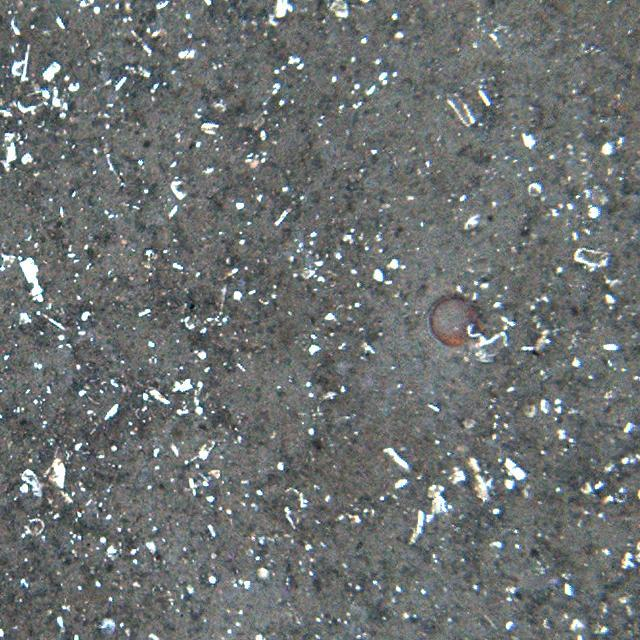scallop: (428, 293, 487, 348)
